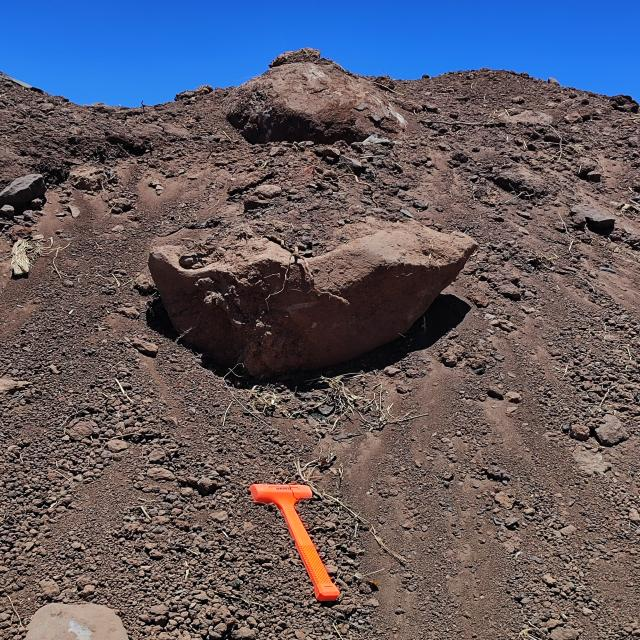Orange_hammer: (248, 482, 340, 602)
